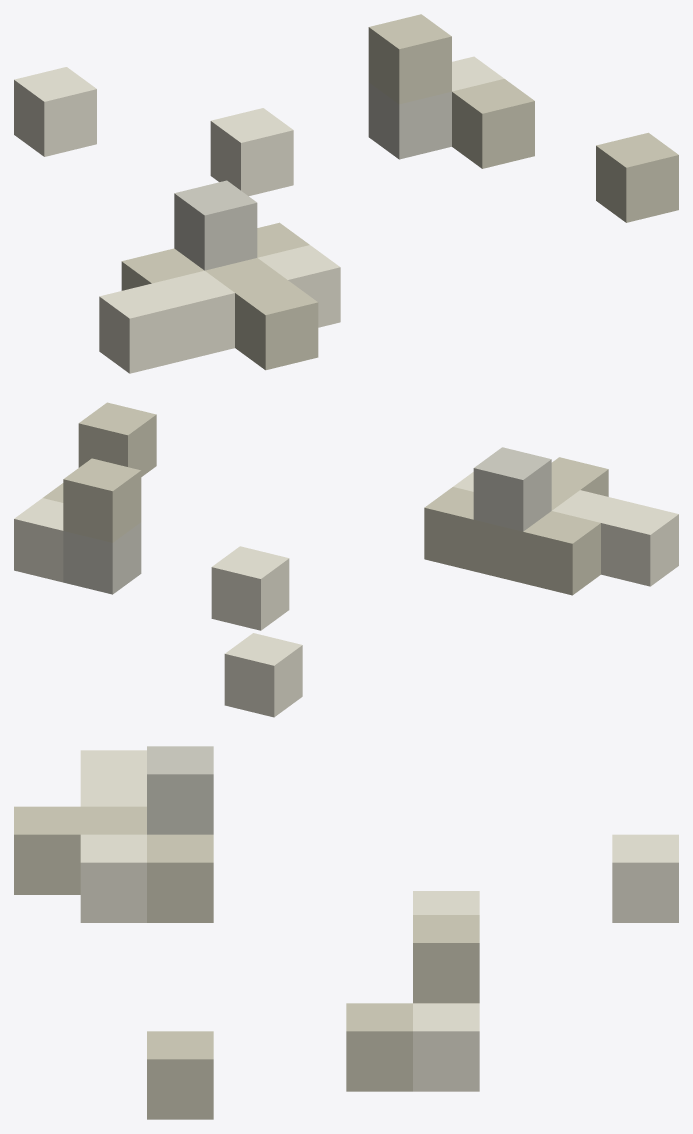
Rendered from Tissue2.obj.
3 renders of one model, top to bottom at view 1: azimuth 30°, elevation 25°; view 2: azimuth 150°, elevation 25°; view 3: azimuth 270°, elevation 25°, orthographic. The views are drawn at different scales.
Size of the model in its own units: 1.1 by 0.2 by 1.
Materials: 1 (1 with a texture image).
